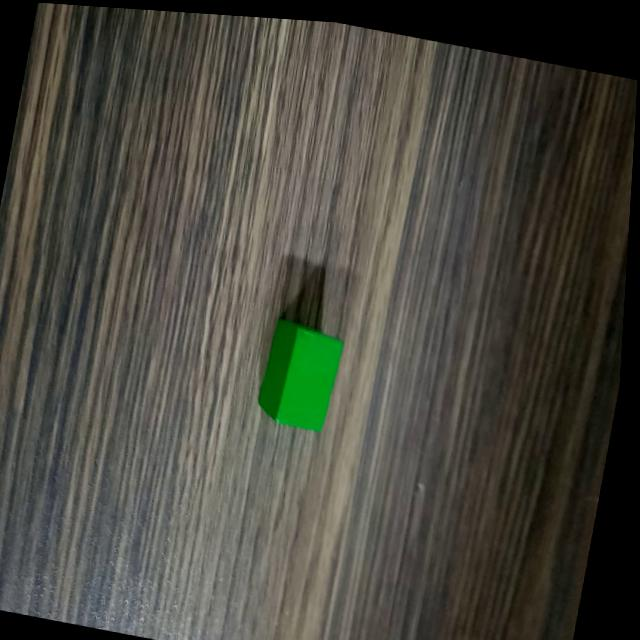cube: (253, 308, 355, 435)
